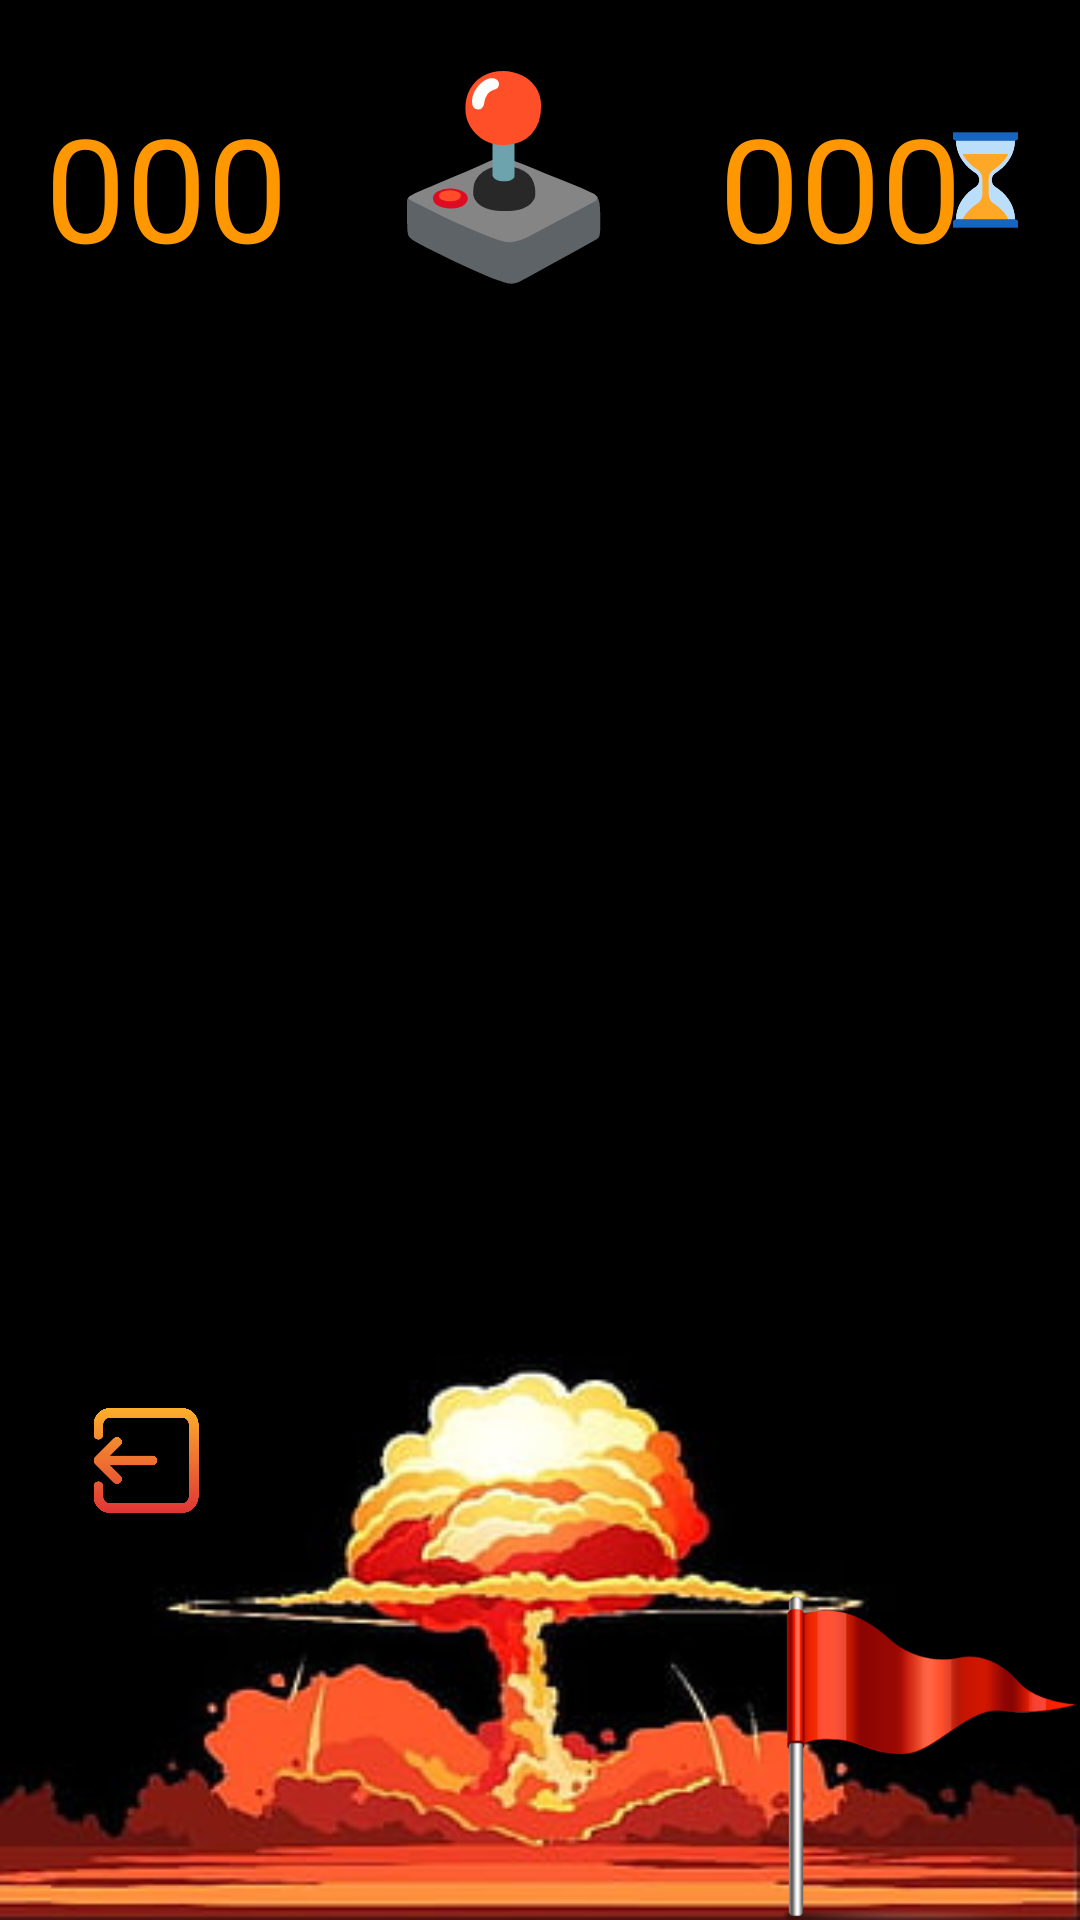

Named icons in this screenshot (1080*1920) and their bounding boxes, (x1, y1, x2, y2):
Flag: (780, 1589, 1080, 1920)
Leave the Game: (94, 1408, 199, 1513)
Timer in game Image: (953, 132, 1018, 228)
